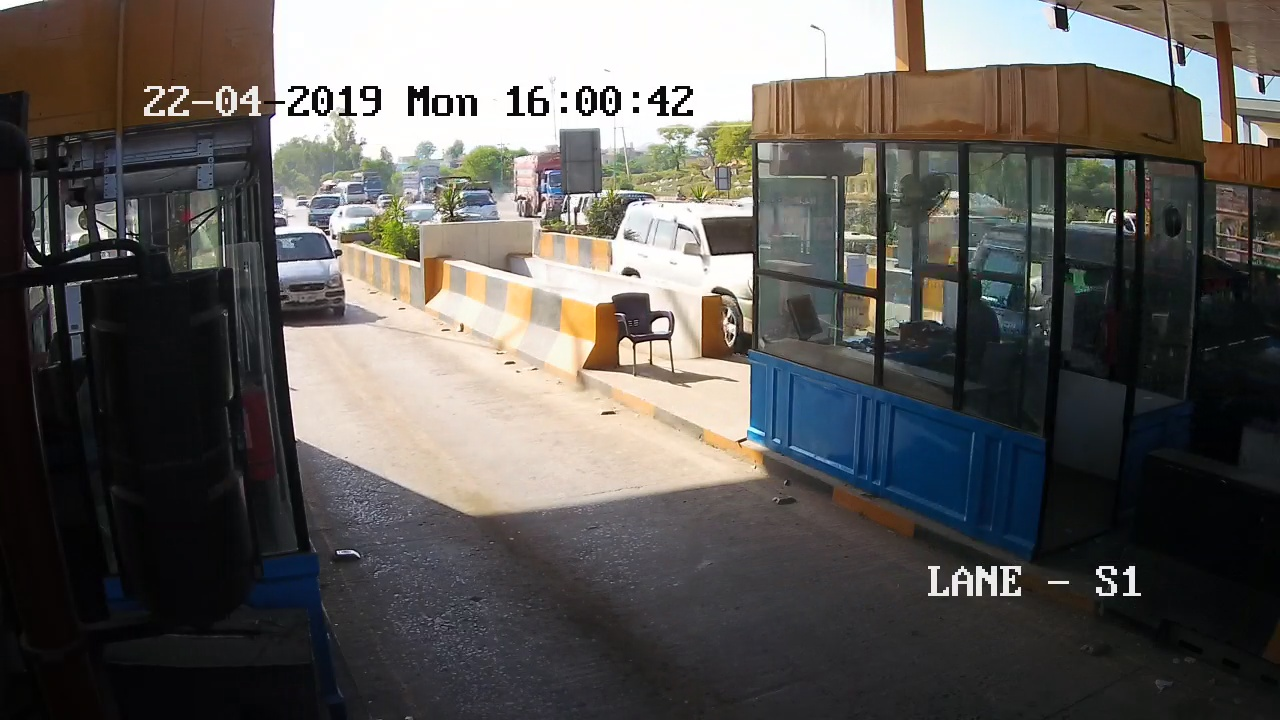car: (279, 231, 360, 335)
